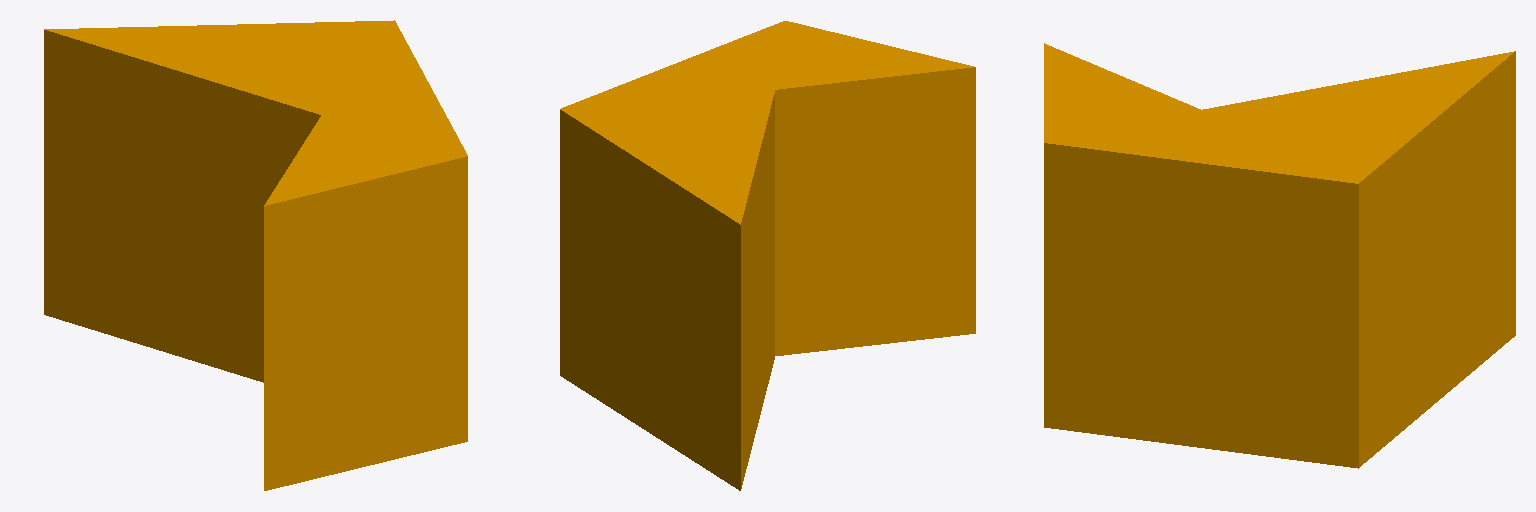
URDF robot description (object):
<?xml version="1.0"?>
<robot name="object">
  <link name="object">
    <visual>
      <origin xyz="0 0 0"/>
      <geometry>
        <mesh filename="package://objects/urdf/meshes/hook.dae"/>
      </geometry>
    </visual>
    <collision>
      <origin xyz="0 0 0"/>
      <geometry>
        <mesh filename="package://objects/urdf/meshes/hook.obj"/>
      </geometry>
    </collision>
    <inertial>
      <mass value="0.1"/>
      <inertia ixx="0.01" ixy="0.00" ixz="0.00" iyy="0.01" iyz="0.0" izz="0.01"/>
      <!-- inertia is recomputed when loading asset  -->
    </inertial>
  </link>
</robot>

--- Render facts (derived) ---
3 views of the same robot in one strip: view 1: azimuth 30°, elevation 25°; view 2: azimuth 150°, elevation 25°; view 3: azimuth 270°, elevation 25° (orthographic).
Robot: object — 1 links, 0 joints (none); root link object; default pose: all joints at 0.
Links seen in each view (by area): view 1: object; view 2: object; view 3: object.
Boxes of the visible links, x1=… form: object: x1=44, y1=20, x2=467, y2=490; object: x1=560, y1=21, x2=975, y2=490; object: x1=1044, y1=43, x2=1515, y2=468.
Bounding box of the posed robot: 0.0847 × 0.12 × 0.08 m (x, y, z).
Meshes: 1 distinct files referenced, 1 mesh visuals loaded (1 Collada DAE).